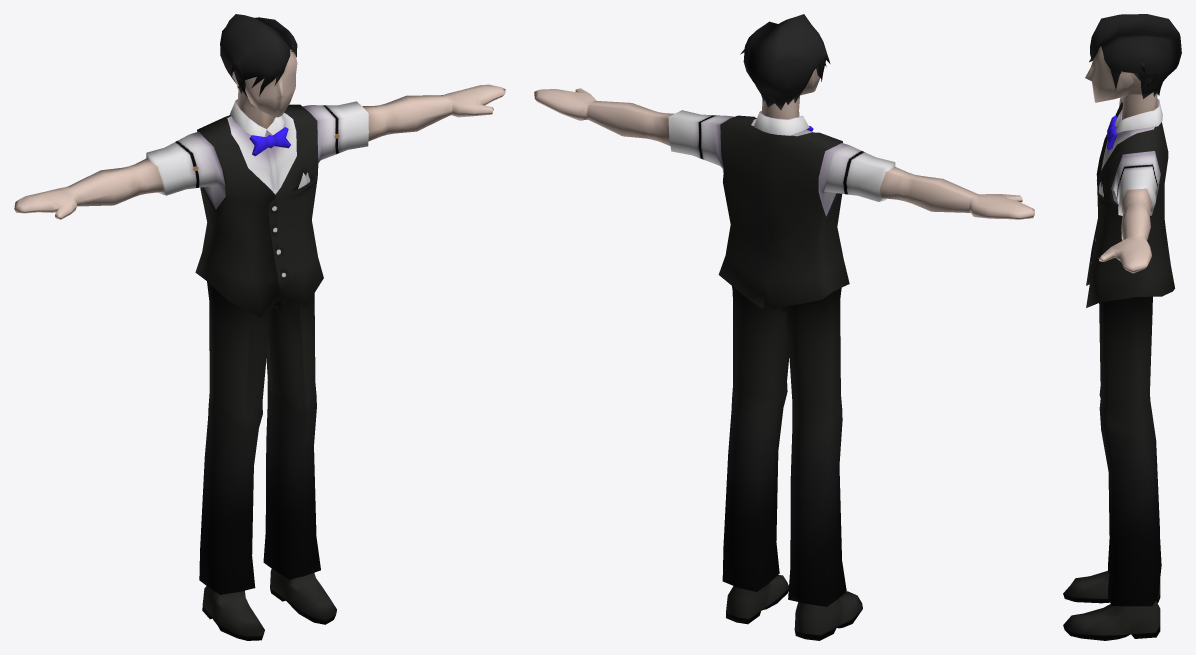
Rendered from Character_Ethan.fbx.
The picture shows the model from 3 angles, left to right: view 1: azimuth 30°, elevation 25°; view 2: azimuth 150°, elevation 25°; view 3: azimuth 270°, elevation 25°; orthographic projection.
Parts seen in each view (by area): view 1: M_Lower, M_Body, M_Hair, M_Face, M_Neckline; view 2: M_Lower, M_Body, M_Hair, M_Neckline, M_Face; view 3: M_Lower, M_Body, M_Hair, M_Face, M_Neckline, M_Bowtie.
Boxes of the visible parts, <box> form: M_Lower: <box>199,281,336,640</box>; M_Body: <box>14,84,505,317</box>; M_Hair: <box>220,14,297,97</box>; M_Face: <box>232,45,297,128</box>; M_Neckline: <box>230,99,284,136</box>; M_Lower: <box>722,286,862,640</box>; M_Body: <box>534,88,1034,309</box>; M_Hair: <box>743,14,830,109</box>; M_Neckline: <box>754,110,809,135</box>; M_Face: <box>762,69,820,119</box>; M_Lower: <box>1063,296,1161,640</box>; M_Body: <box>1086,98,1174,307</box>; M_Hair: <box>1089,14,1181,98</box>; M_Face: <box>1085,46,1157,119</box>; M_Neckline: <box>1115,98,1162,133</box>; M_Bowtie: <box>1107,115,1117,150</box>.
Size of the model in its own units: 2.02 by 2.31 by 0.4161.
